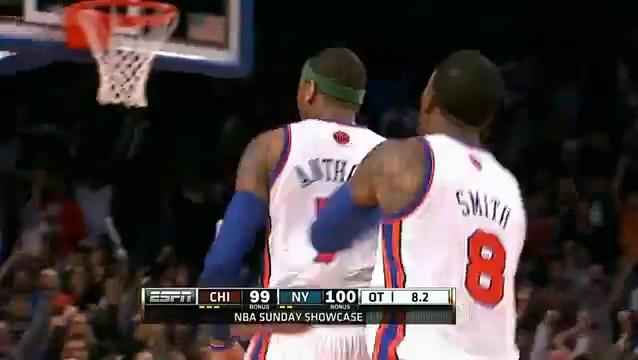Backboard: (34, 0, 251, 71)
Basket: (69, 0, 180, 110)
Person: (209, 45, 380, 360), (367, 46, 530, 355)
